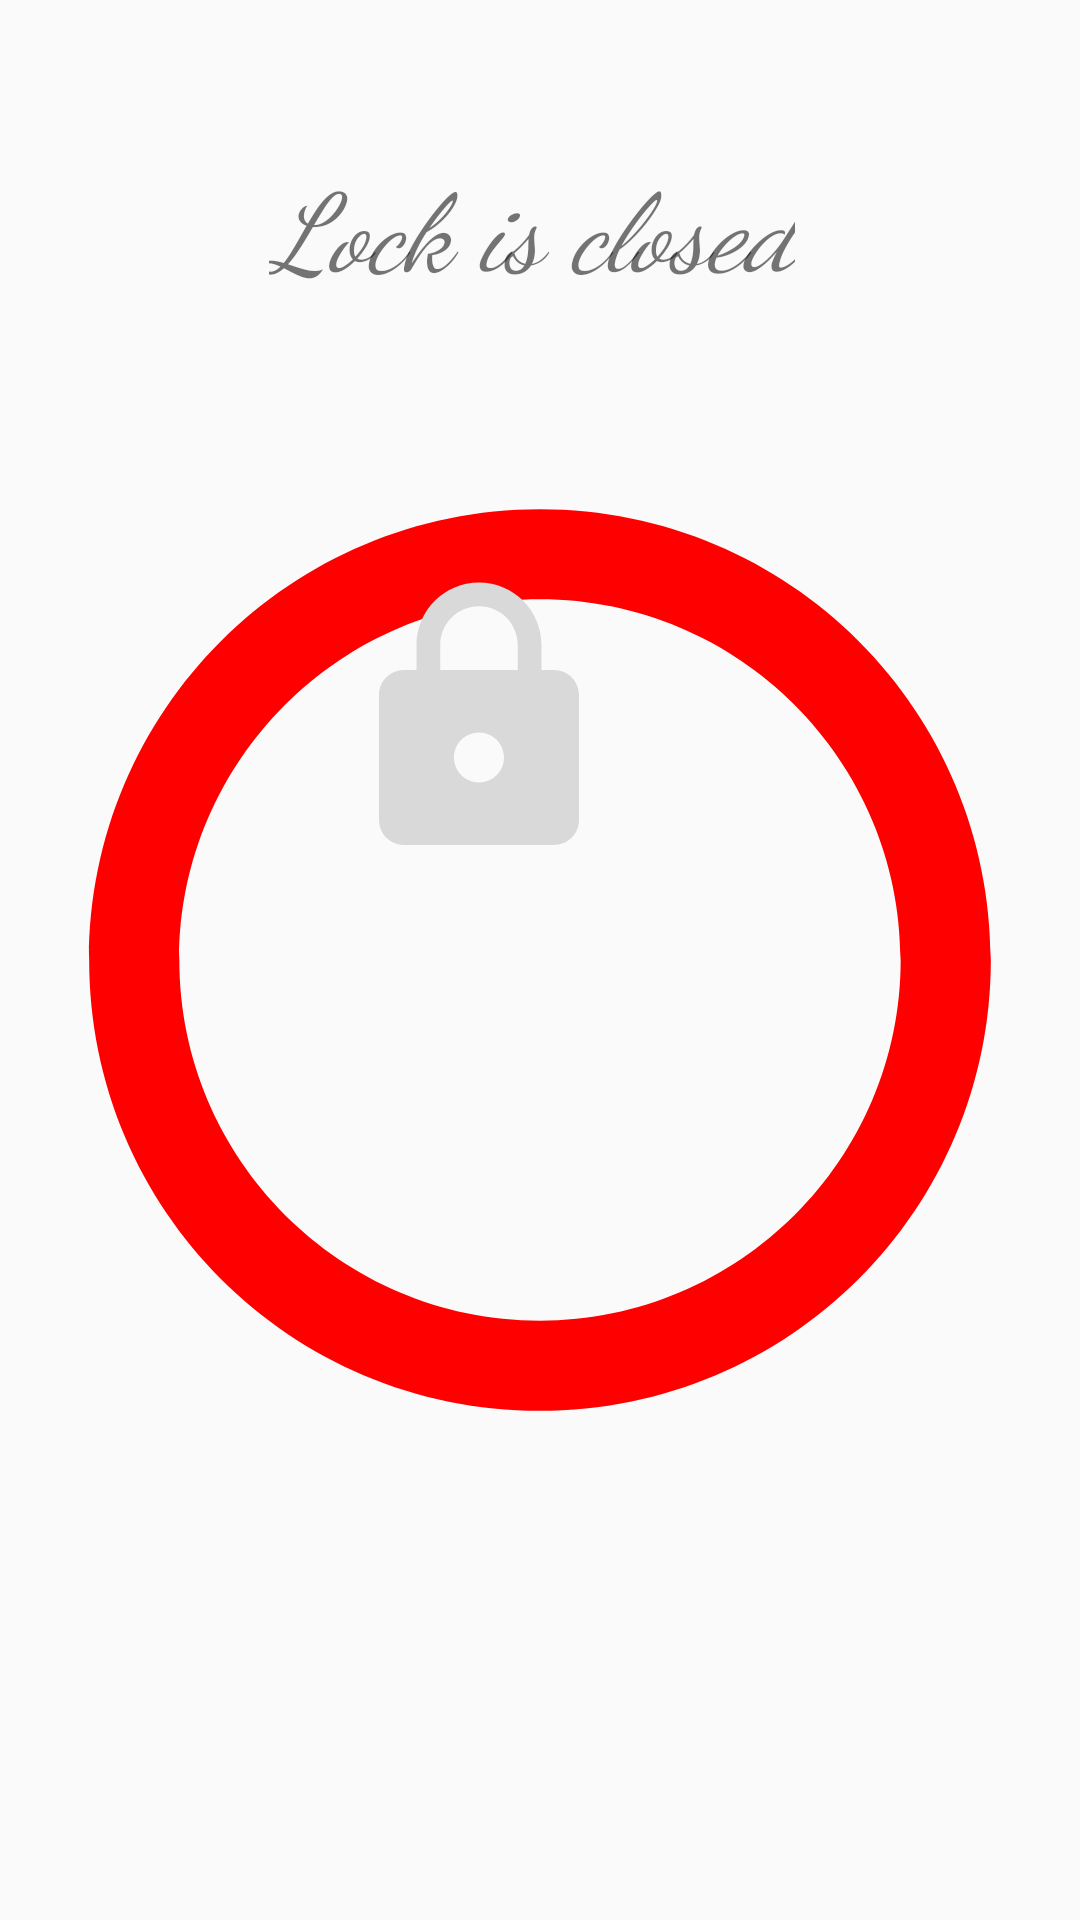

Point at icon controls on the screen. Image size 1080*1920, points as (x,y).
lock: (479,707)
